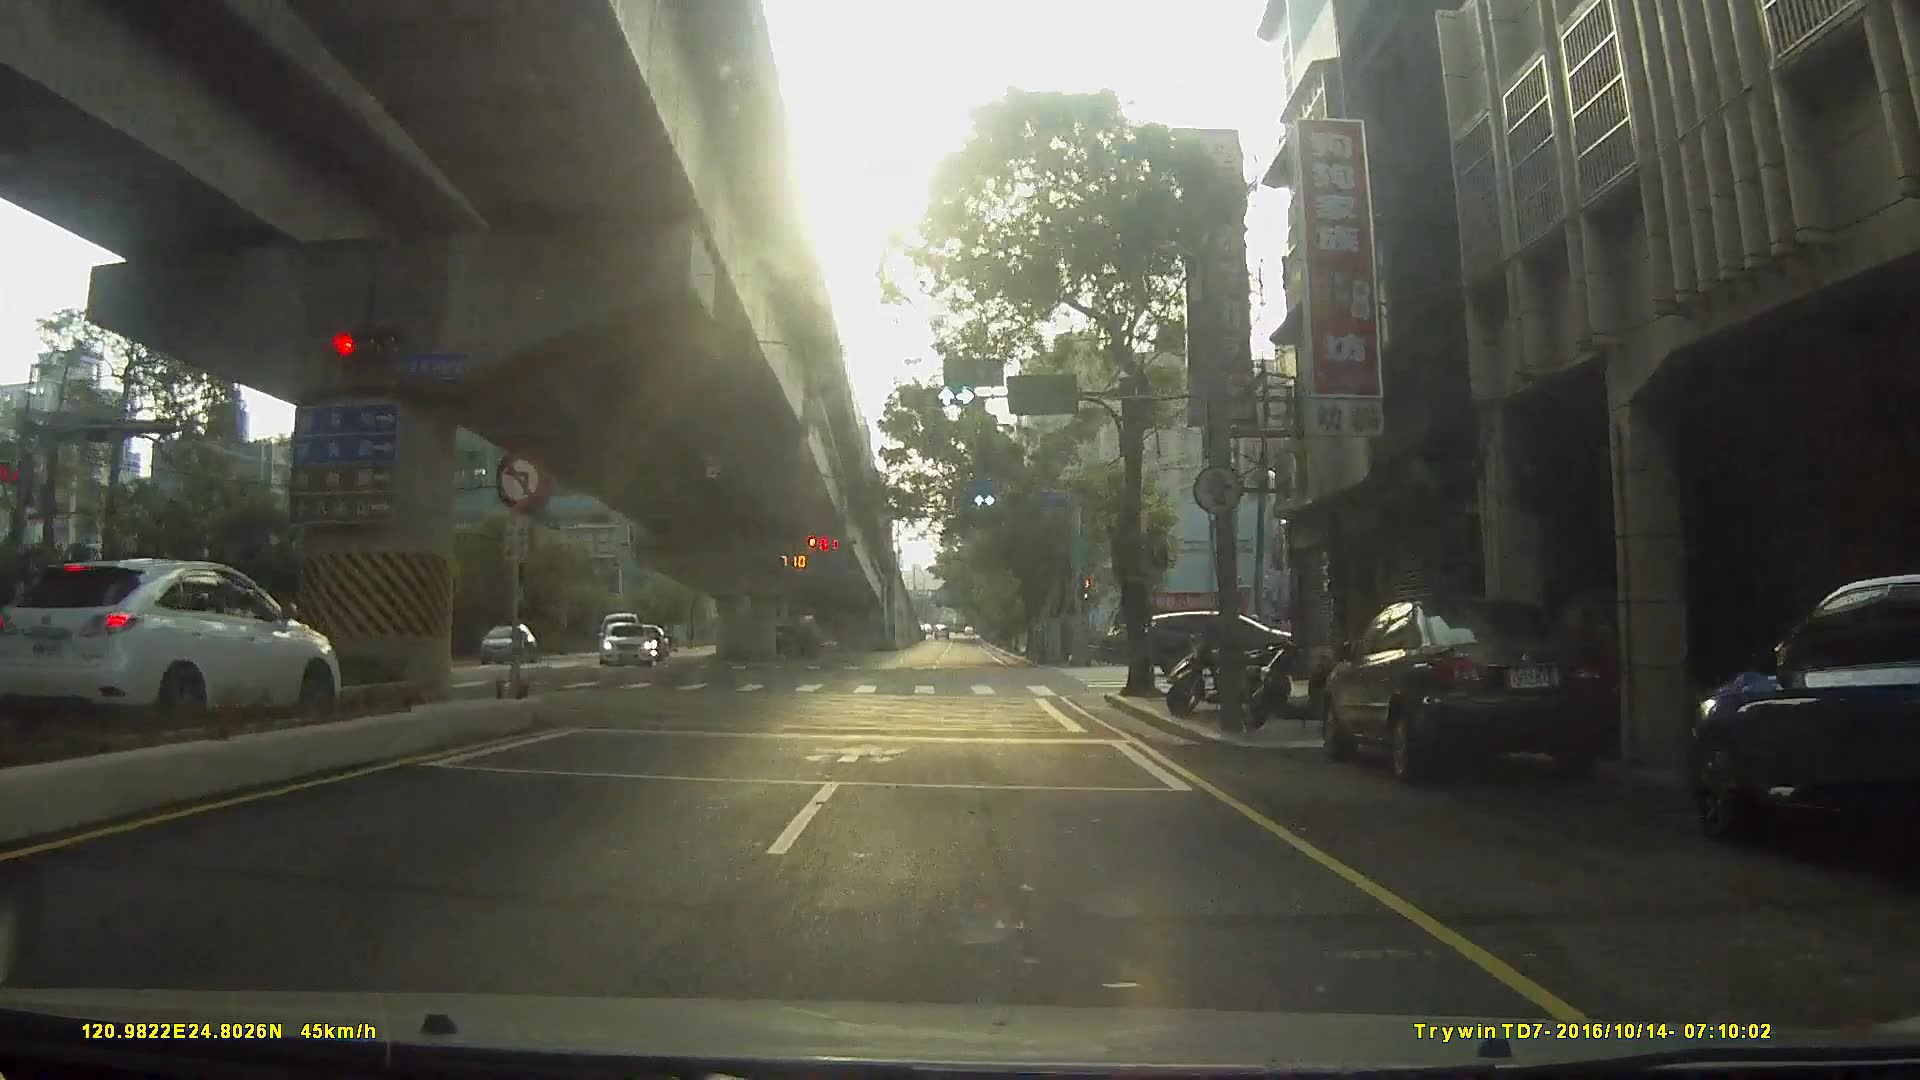vehicle: (1683, 571, 1920, 877), (4, 549, 340, 736), (1313, 595, 1626, 795), (1145, 611, 1303, 673), (757, 618, 822, 659), (471, 622, 531, 665), (595, 622, 650, 667)
